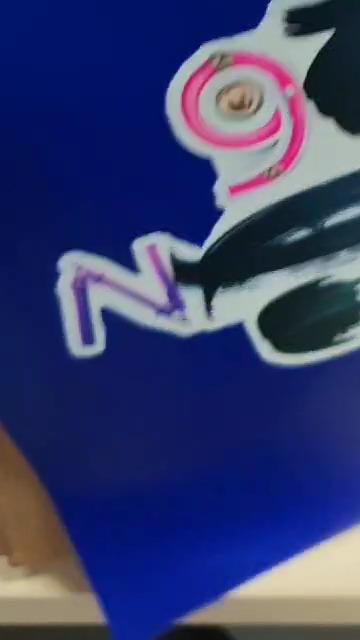B_R1: (51, 0, 360, 311)
